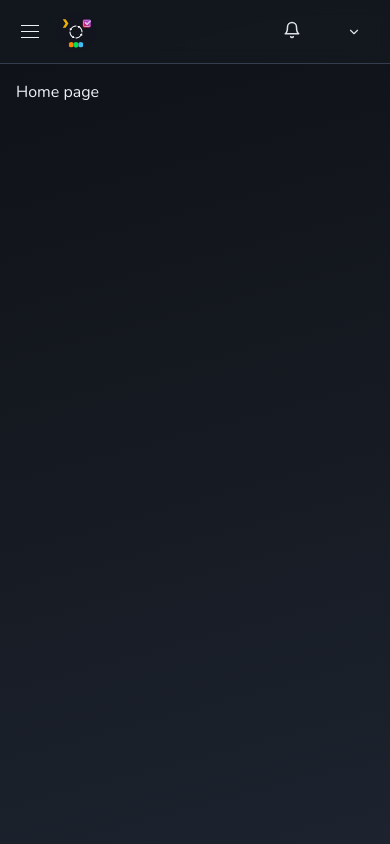
Test: opens navigation drawer from burger and closes on navigate
This screenshot has width=390, height=844.
Click the button named "Open navigation": (30, 32) [16,18,44,46]
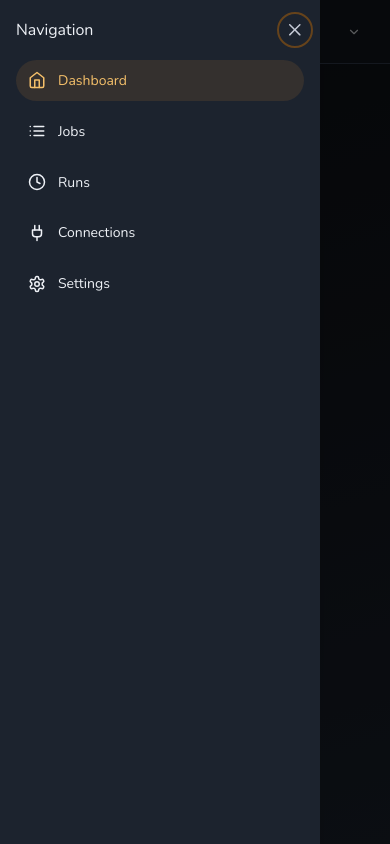
Check: the dialog is shown
Click the link "Jobs": (57, 131) [28,122,85,141]
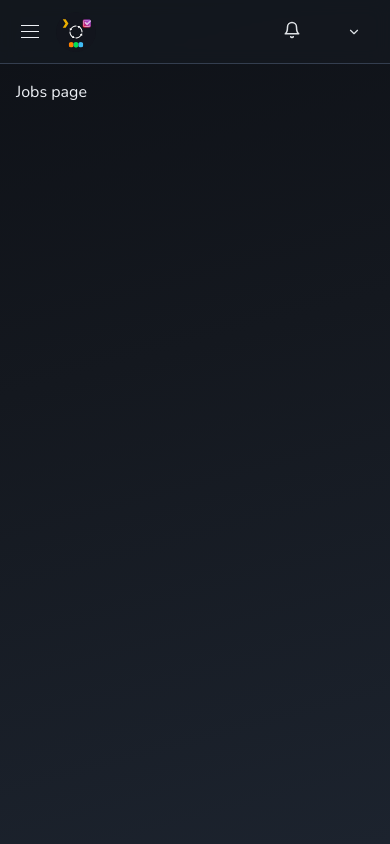
Check: the text "Jobs page" is shown, box [16,81,87,103]
